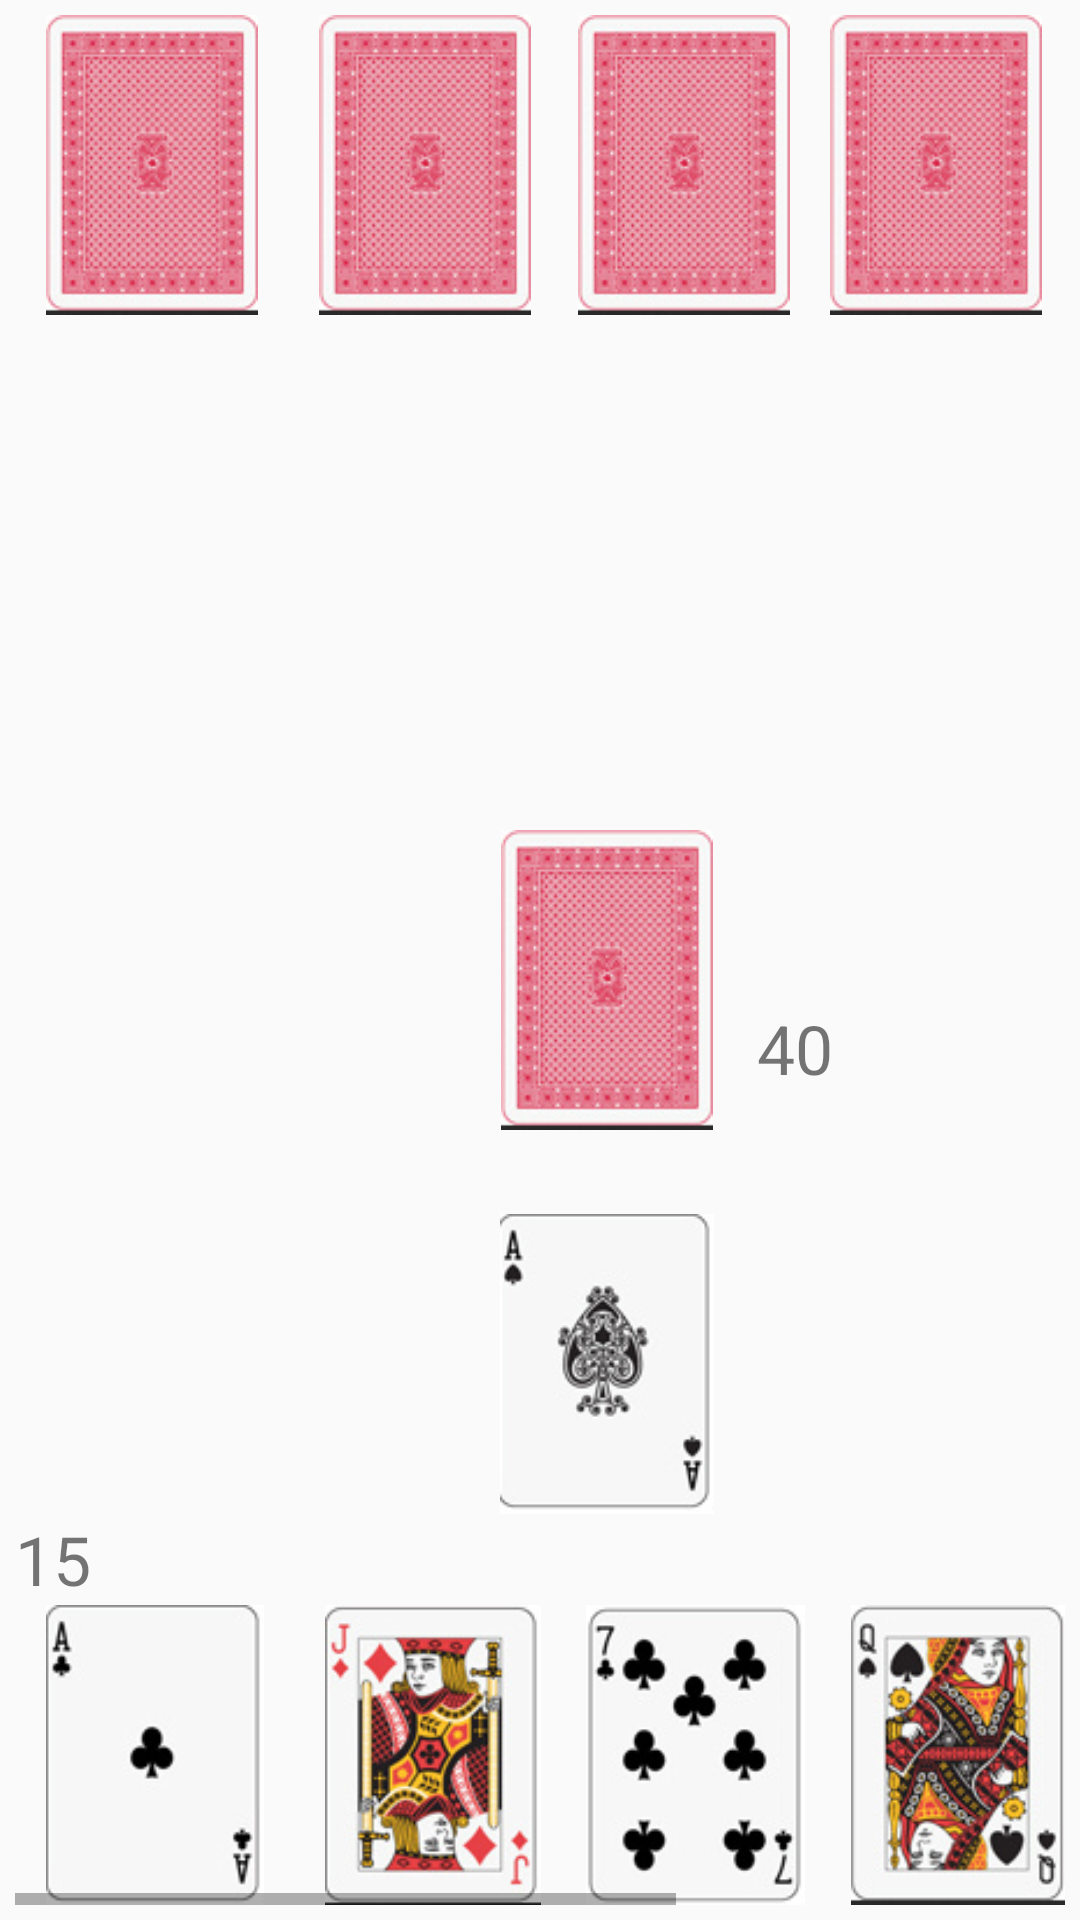

Named icons in this screenshot (1080x1920) and their centers, (x=x, y=y):
ace clubs: (x=154, y=1755)
ace spade: (x=605, y=1361)
deck back: (x=152, y=165), (x=425, y=165), (x=684, y=165), (x=936, y=165), (x=607, y=980)
jack diamond: (x=430, y=1754)
seven clubs: (x=694, y=1755)
